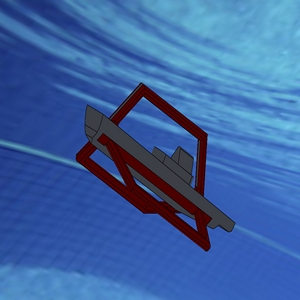submarine: (55, 43, 236, 256)
